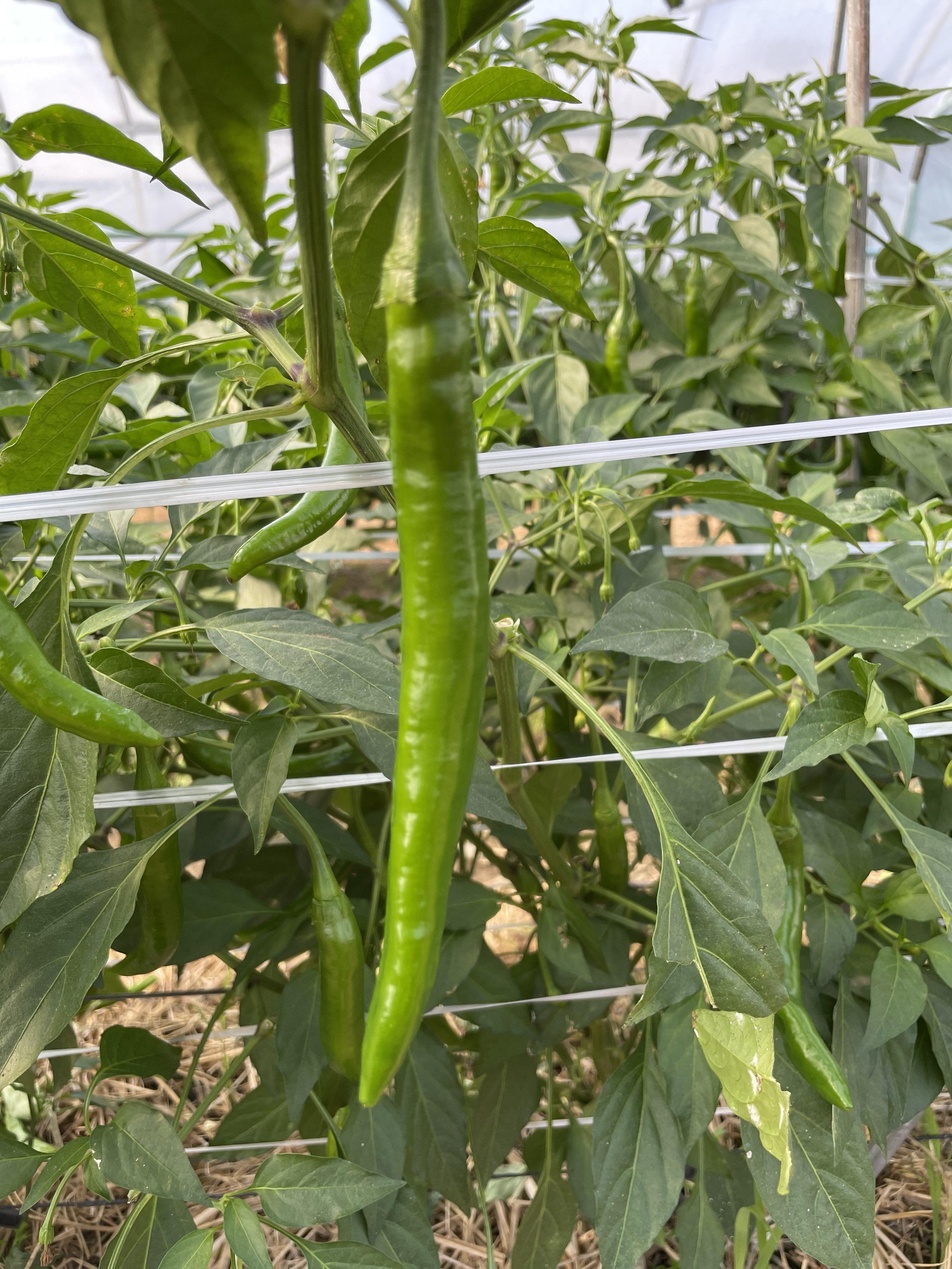Buah Cabai Sehat: (355, 216, 489, 1107)
